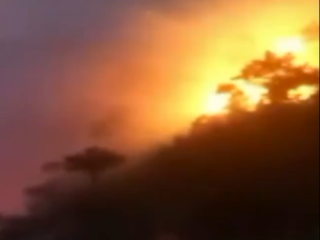smoke: (10, 9, 193, 122)
